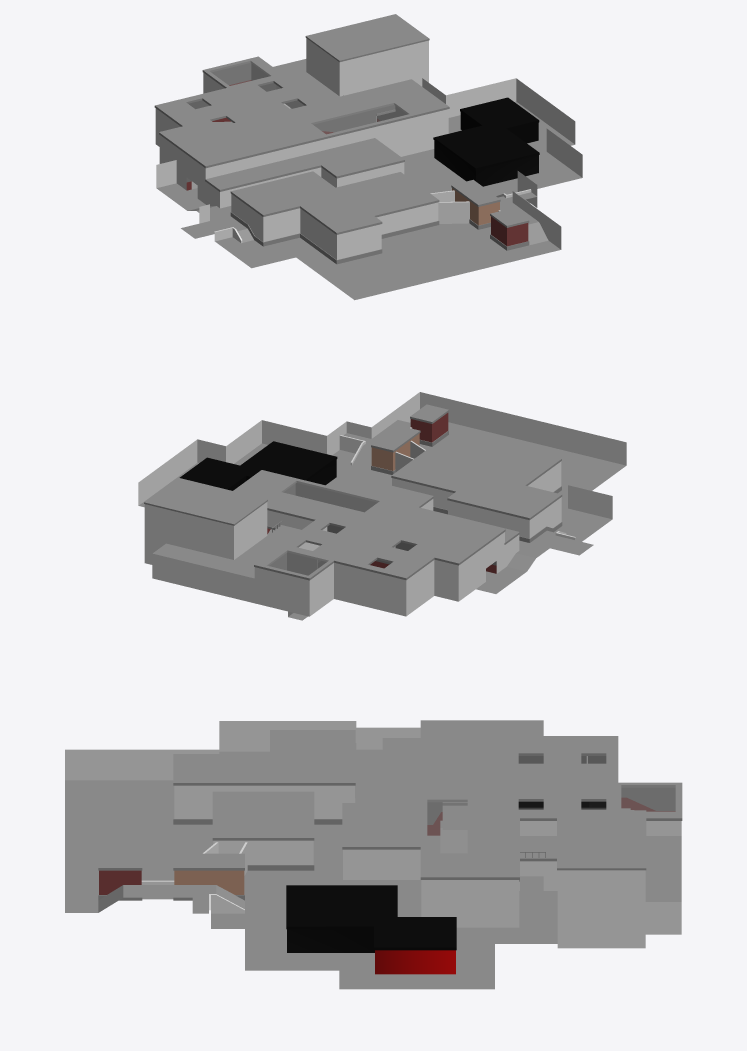
The model's file is zulu.glb.
3 views of the same model, one above another, from view 1: azimuth 30°, elevation 25°; view 2: azimuth 150°, elevation 25°; view 3: azimuth 270°, elevation 25° (orthographic). The views are drawn at different scales.
Visible parts, largest first — view 1: BBuildingExterior-occ-col, Building1-occ-col, AFloor-col, BTBuilding-col, TBuilding-occ-col, TWall-col, ATMain-occ-col, CTFloor-occ-col, TFloor-col, MidFloor-col, BBuildingInterior-occ-col, BBuildingMini-col (+3 smaller); view 2: BBuildingExterior-occ-col, Building1-occ-col, BTBuilding-col, CTWall-col, TWall-col, BBuildingMini-col, AFloor-col, TBuilding-occ-col, ATMain-occ-col, CTFloor-occ-col, MidFloor-col, BBuildingInterior-occ-col (+2 smaller); view 3: BBuildingExterior-occ-col, Building1-occ-col, BTBuilding-col, AFloor-col, TFloor-col, TBuilding-occ-col, CTWall-col, ATMain-occ-col, BBuildingMini-col, MidFloor-col, CTFloor-occ-col, BCTFloor-occ-col (+2 smaller).
Part boxes in pixels (x1=…): BBuildingExterior-occ-col: x1=154, y1=56, x2=449, y2=208; Building1-occ-col: x1=230, y1=171, x2=439, y2=264; AFloor-col: x1=296, y1=223, x2=560, y2=300; BTBuilding-col: x1=305, y1=14, x2=429, y2=96; TBuilding-occ-col: x1=433, y1=97, x2=539, y2=186; TWall-col: x1=422, y1=78, x2=582, y2=249; ATMain-occ-col: x1=451, y1=179, x2=548, y2=250; CTFloor-occ-col: x1=156, y1=183, x2=318, y2=268; TFloor-col: x1=376, y1=101, x2=581, y2=203; MidFloor-col: x1=401, y1=151, x2=465, y2=193; BBuildingInterior-occ-col: x1=188, y1=83, x2=395, y2=134; BBuildingMini-col: x1=273, y1=59, x2=339, y2=109; BBuildingExterior-occ-col: x1=233, y1=470, x2=519, y2=616; Building1-occ-col: x1=391, y1=447, x2=562, y2=542; BTBuilding-col: x1=144, y1=477, x2=267, y2=564; CTWall-col: x1=420, y1=392, x2=626, y2=539; TWall-col: x1=138, y1=392, x2=419, y2=505; BBuildingMini-col: x1=152, y1=525, x2=321, y2=603; AFloor-col: x1=410, y1=422, x2=625, y2=508; TBuilding-occ-col: x1=179, y1=441, x2=337, y2=490; ATMain-occ-col: x1=339, y1=404, x2=448, y2=474; CTFloor-occ-col: x1=476, y1=507, x2=612, y2=593; MidFloor-col: x1=326, y1=465, x2=391, y2=490; BBuildingInterior-occ-col: x1=278, y1=512, x2=414, y2=568; BBuildingExterior-occ-col: x1=342, y1=720, x2=682, y2=927; Building1-occ-col: x1=173, y1=730, x2=355, y2=870; BTBuilding-col: x1=557, y1=810, x2=646, y2=948; AFloor-col: x1=65, y1=780, x2=244, y2=912; TFloor-col: x1=211, y1=891, x2=557, y2=989; TBuilding-occ-col: x1=286, y1=885, x2=456, y2=974; CTWall-col: x1=65, y1=721, x2=420, y2=780; ATMain-occ-col: x1=98, y1=853, x2=244, y2=913; BBuildingMini-col: x1=519, y1=836, x2=681, y2=934; MidFloor-col: x1=245, y1=824, x2=421, y2=912; CTFloor-occ-col: x1=219, y1=743, x2=382, y2=802; BCTFloor-occ-col: x1=427, y1=805, x2=467, y2=853.
Size of what is drawn, in the model's own units: 137 by 23.55 by 145.
